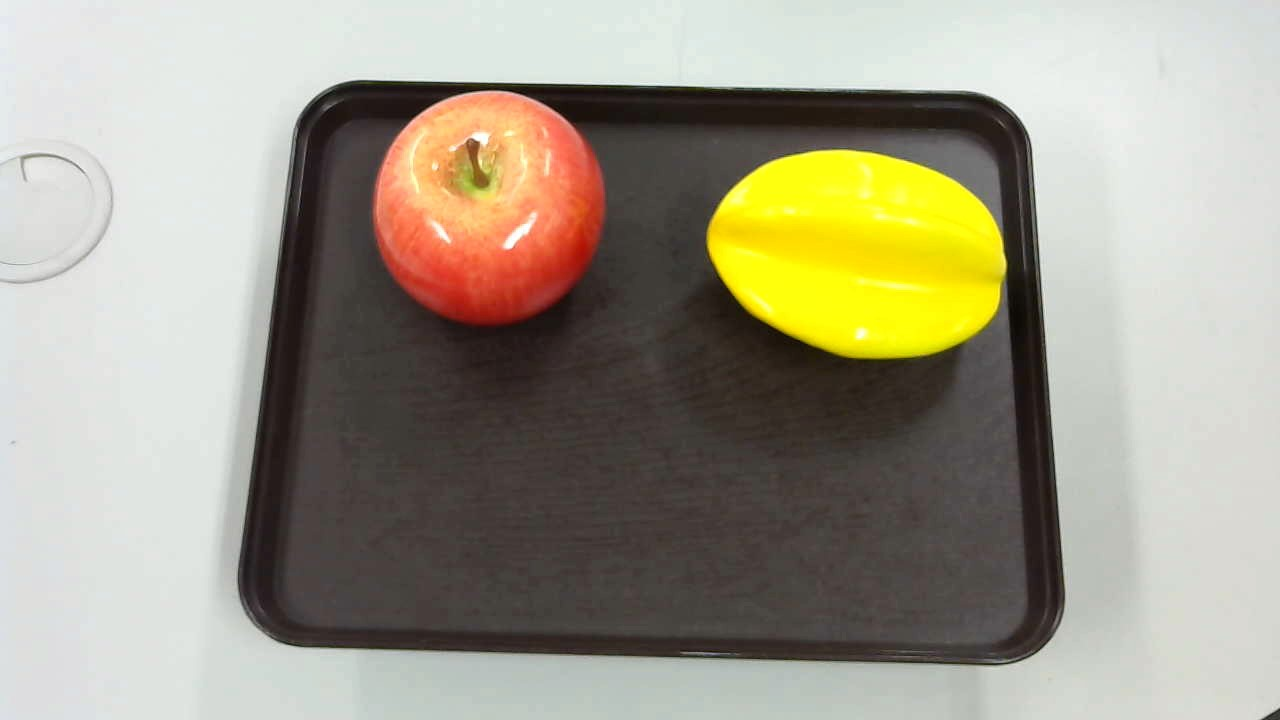red apple: (364, 86, 613, 335)
star fruit: (701, 147, 1009, 356)
